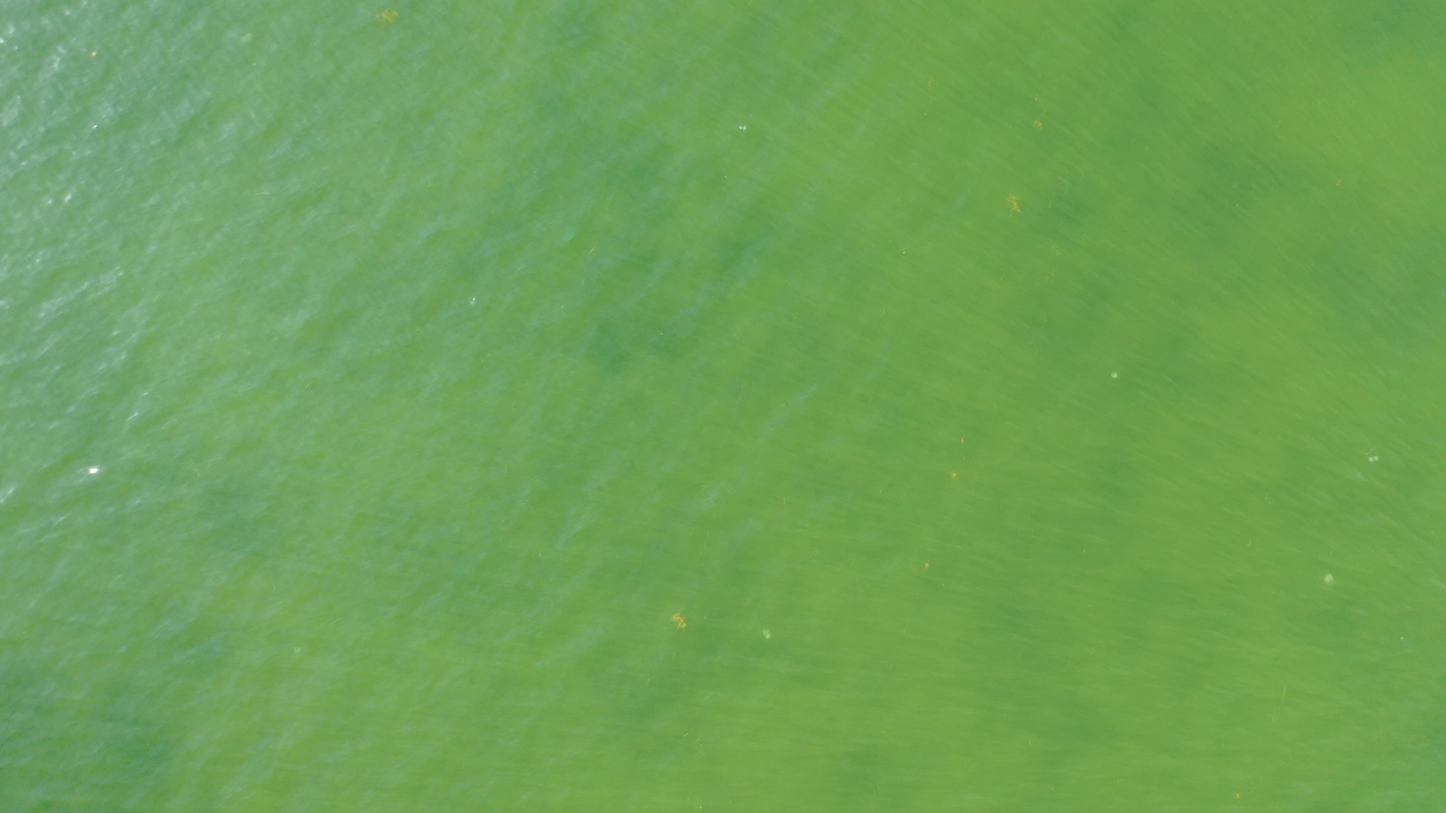meduse: (469, 296, 478, 305), (1324, 574, 1333, 582), (292, 646, 302, 653), (1370, 455, 1378, 463), (738, 125, 748, 131), (762, 631, 770, 638), (1111, 370, 1117, 378)
